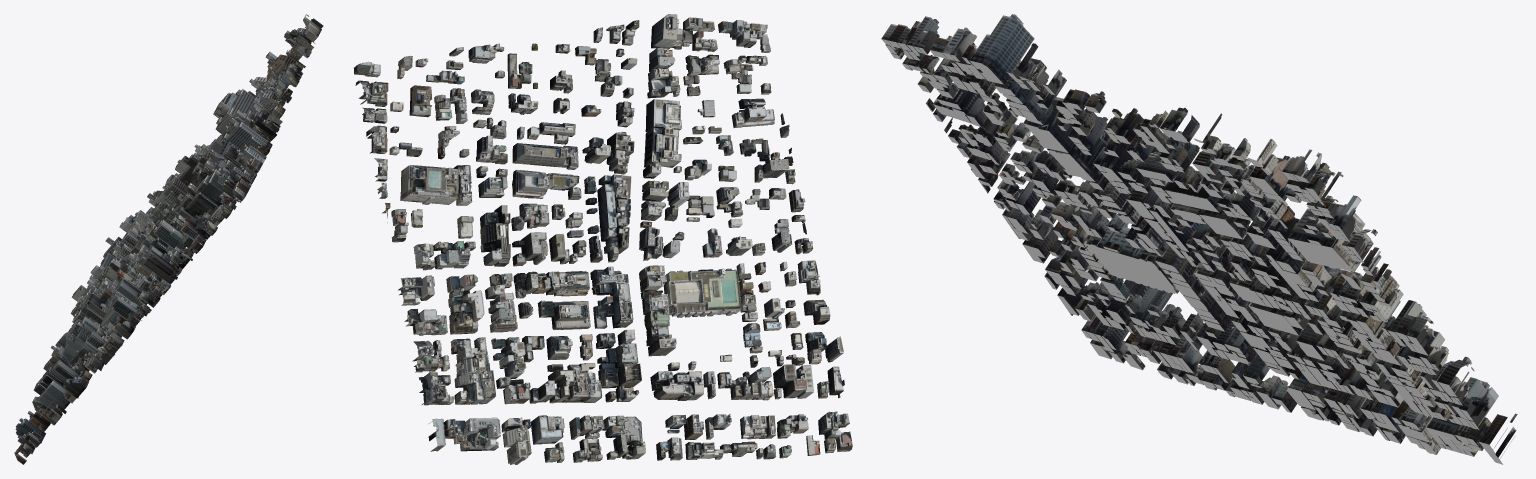
File: 9883_bldg_Building.glb
3 renders of one model, left to right at view 1: azimuth 30°, elevation 25°; view 2: azimuth 150°, elevation 25°; view 3: azimuth 270°, elevation 25°, orthographic. The views are drawn at different scales.
Size of the model in its own units: 564 by 457 by 557.
10 materials, 9 textured.
